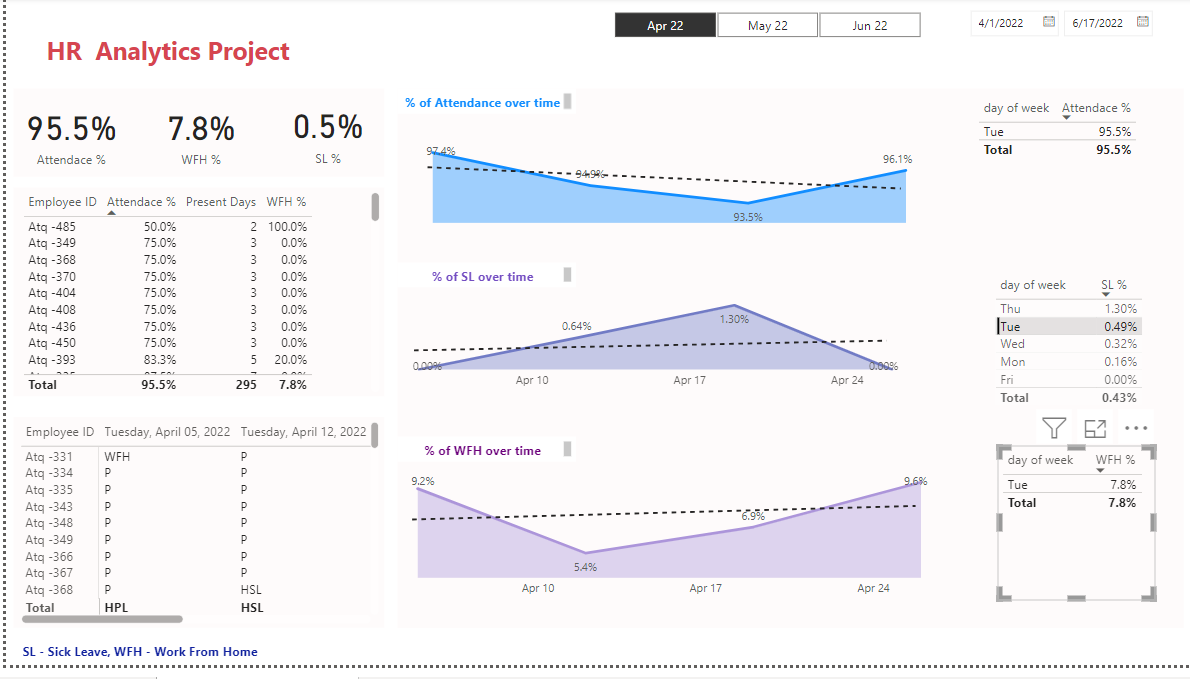

Layout of this report page (visuals, bound fields, positions):
{"tool":"powerbi","page":{"name":"Presence Insights","canvas":[1280,720],"ordinal":0},"visuals":[{"type":"textbox","box":[7.8,205.6,399.9,225.5],"z":0},{"type":"textbox","box":[7.8,453.3,399.8,227.6],"z":1000},{"type":"textbox","box":[422.3,97.9,848.1,582.3],"z":2000},{"type":"textbox","box":[7.8,98,399.9,95.4],"z":3000},{"type":"tableEx","fields":{"Values":["Final Data.Employee ID","Measures (2).Attendace %","Measures (2).Present Days","Measures (2).WFH %"]},"box":[12.6,205.2,394.9,225.7],"z":4000},{"type":"slicer","fields":{"Values":["Final Data.Date"]},"box":[1027.3,5.2,252.7,46.3],"z":5000},{"type":"slicer","fields":{"Values":["Final Data.MMM YY"]},"box":[630.4,10.5,379.5,35.8],"z":6000},{"type":"areaChart","fields":{"Category":["Final Data.MMM YY","Final Data.Date"],"Y":["Measures (2).WFH %"]},"box":[420.7,502.3,589,153.5],"z":7000},{"type":"areaChart","fields":{"Category":["Final Data.WeekNo","Final Data.Date"],"Y":["Measures (2).Attendace %"]},"box":[444.1,144.9,540.4,103.2],"z":8000},{"type":"card","fields":{"Values":["Measures (2).Attendace %"]},"box":[7.8,98,124,96.3],"z":9000},{"type":"card","fields":{"Values":["Measures (2).WFH %"]},"box":[141.4,98,138.8,96.3],"z":10000},{"type":"areaChart","fields":{"Category":["Final Data.MMM YY","Final Data.Date"],"Y":["Measures (2).SL %"]},"box":[422.5,307.1,556,124],"z":11000},{"type":"card","fields":{"Values":["Measures (2).SL %"]},"box":[286.3,97.2,121.4,96.3],"z":13000},{"type":"textbox","box":[12.9,16.2,338.2,71.2],"z":14000},{"type":"textbox","box":[422.4,98.2,192.5,27.5],"z":15000},{"type":"textbox","box":[422.5,286.3,192.6,26.9],"z":16000},{"type":"textbox","box":[422.1,473.7,192.6,27.2],"z":17000},{"type":"pivotTable","fields":{"Rows":["Final Data.Employee ID"],"Columns":["Final Data.Date"],"Values":["Min(Final Data.Value)"]},"box":[11.7,453.3,395.9,227.6],"z":18000},{"type":"textbox","box":[13.6,691.6,289.8,28.2],"z":19000},{"type":"tableEx","fields":{"Values":["Final Data.day of week","Measures (2).Attendace %"]},"box":[1043.6,103.6,208.7,145.6],"z":20000},{"type":"tableEx","fields":{"Values":["Final Data.day of week","Measures (2).SL %"]},"box":[1060.9,294.1,191.7,167.4],"z":21000},{"type":"tableEx","fields":{"Values":["Final Data.day of week","Measures (2).WFH %"]},"box":[1068.7,483.2,170,167.4],"z":22000}]}

Visuals, with their boxes in screenshot pixels (x1, y1, x2, y2), scaled from the page's 1280x720 canvas onto the 1190x679 screenshot:
textbox: locate(7, 194, 379, 407)
textbox: locate(7, 427, 379, 642)
textbox: locate(393, 92, 1181, 641)
textbox: locate(7, 92, 379, 182)
tableEx - Final Data.Employee ID x Measures (2).Attendace %: locate(12, 194, 379, 406)
slicer - Final Data.Date: locate(955, 5, 1189, 49)
slicer - Final Data.MMM YY: locate(586, 10, 939, 44)
areaChart - Final Data.MMM YY x Final Data.Date: locate(391, 474, 939, 618)
areaChart - Final Data.WeekNo x Final Data.Date: locate(413, 137, 915, 234)
card - Measures (2).Attendace %: locate(7, 92, 123, 183)
card - Measures (2).WFH %: locate(131, 92, 260, 183)
areaChart - Final Data.MMM YY x Final Data.Date: locate(393, 290, 910, 407)
card - Measures (2).SL %: locate(266, 92, 379, 182)
textbox: locate(12, 15, 326, 82)
textbox: locate(393, 93, 572, 119)
textbox: locate(393, 270, 572, 295)
textbox: locate(392, 447, 571, 472)
pivotTable - Final Data.Employee ID x Final Data.Date: locate(11, 427, 379, 642)
textbox: locate(13, 652, 282, 678)
tableEx - Final Data.day of week x Measures (2).Attendace %: locate(970, 98, 1164, 235)
tableEx - Final Data.day of week x Measures (2).SL %: locate(986, 277, 1165, 435)
tableEx - Final Data.day of week x Measures (2).WFH %: locate(994, 456, 1152, 614)
